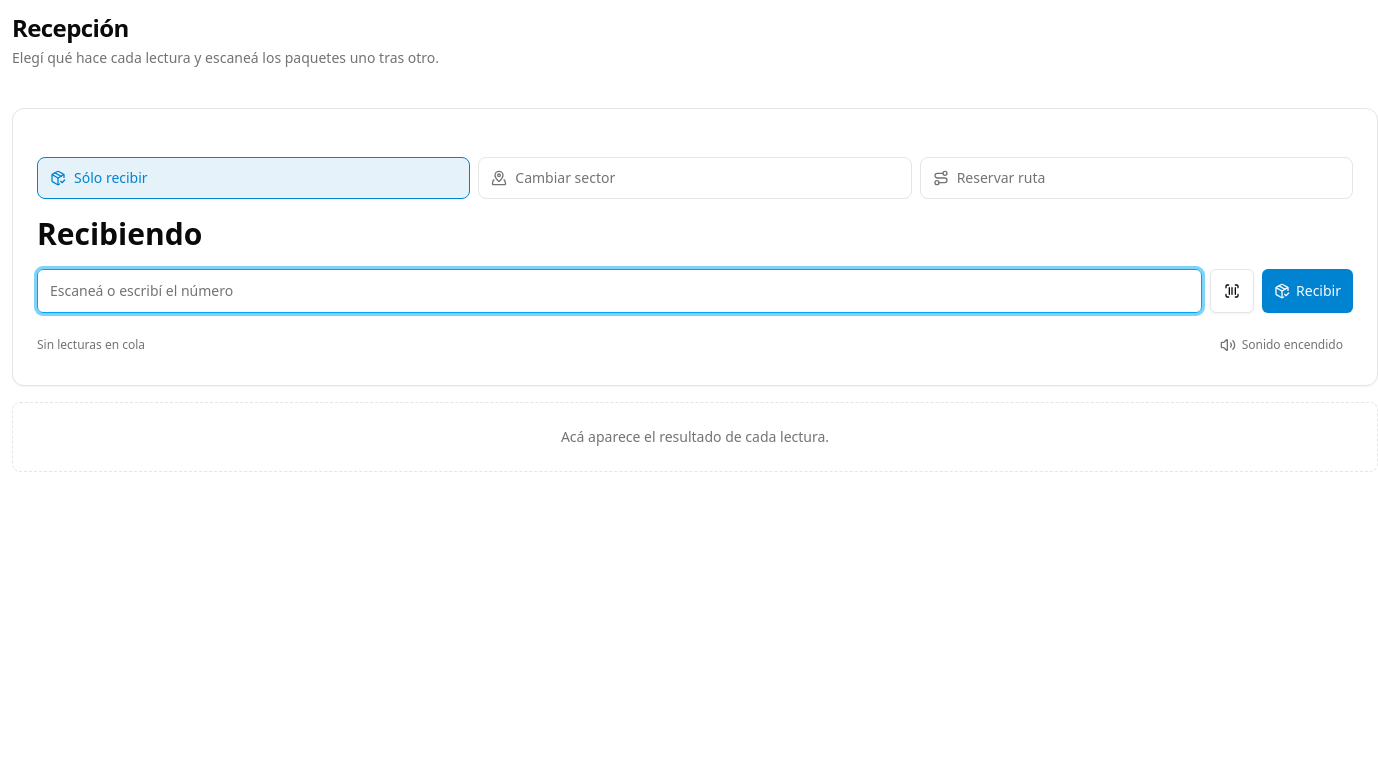
Recepción — los tres modos: una llamada por lectura › Reservar recorrido: manda el recorrido elegido
Click the button "Reservar ruta" at [1001, 178], box [920,157,1353,199]
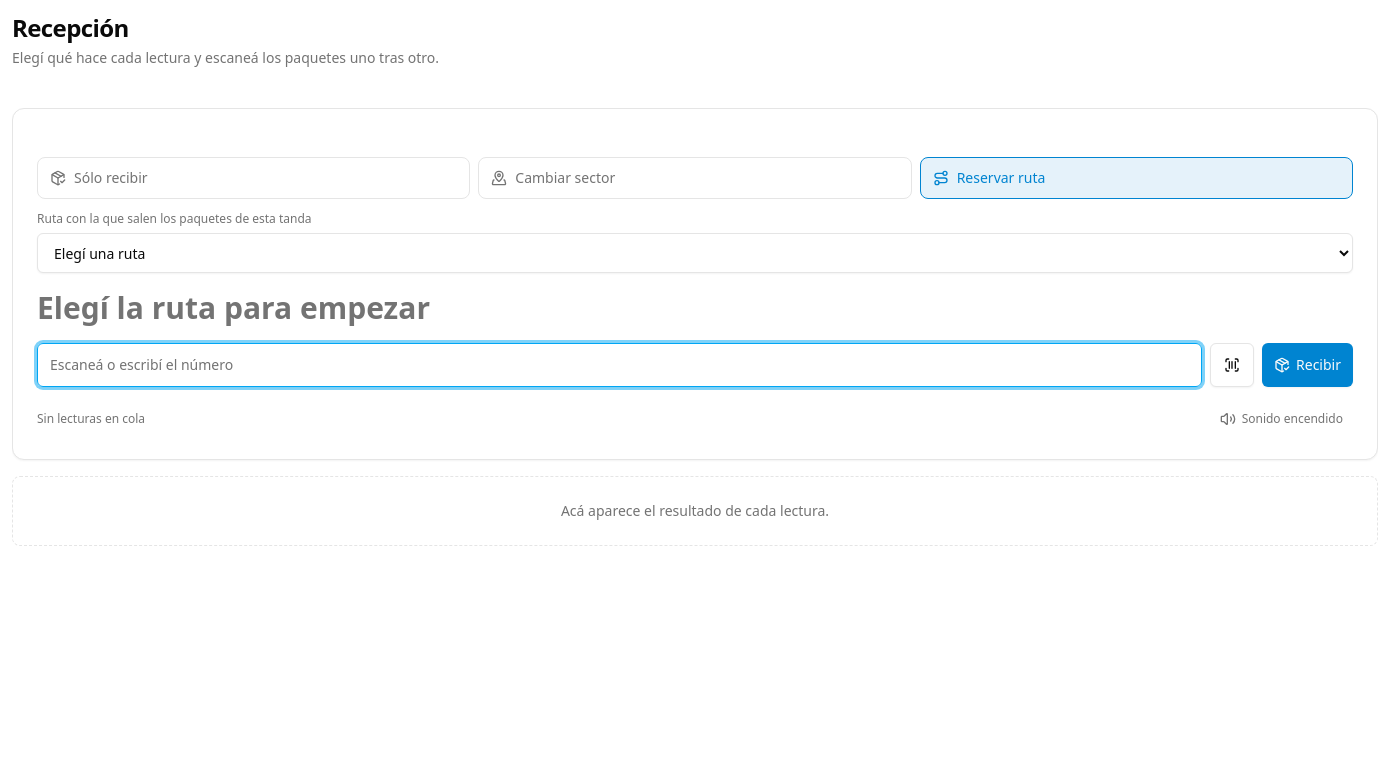
Select "Posadas Moto" in the dropdown labelled "Ruta con la que salen los paquetes de esta tanda" at [695, 253], box [37,233,1353,273]
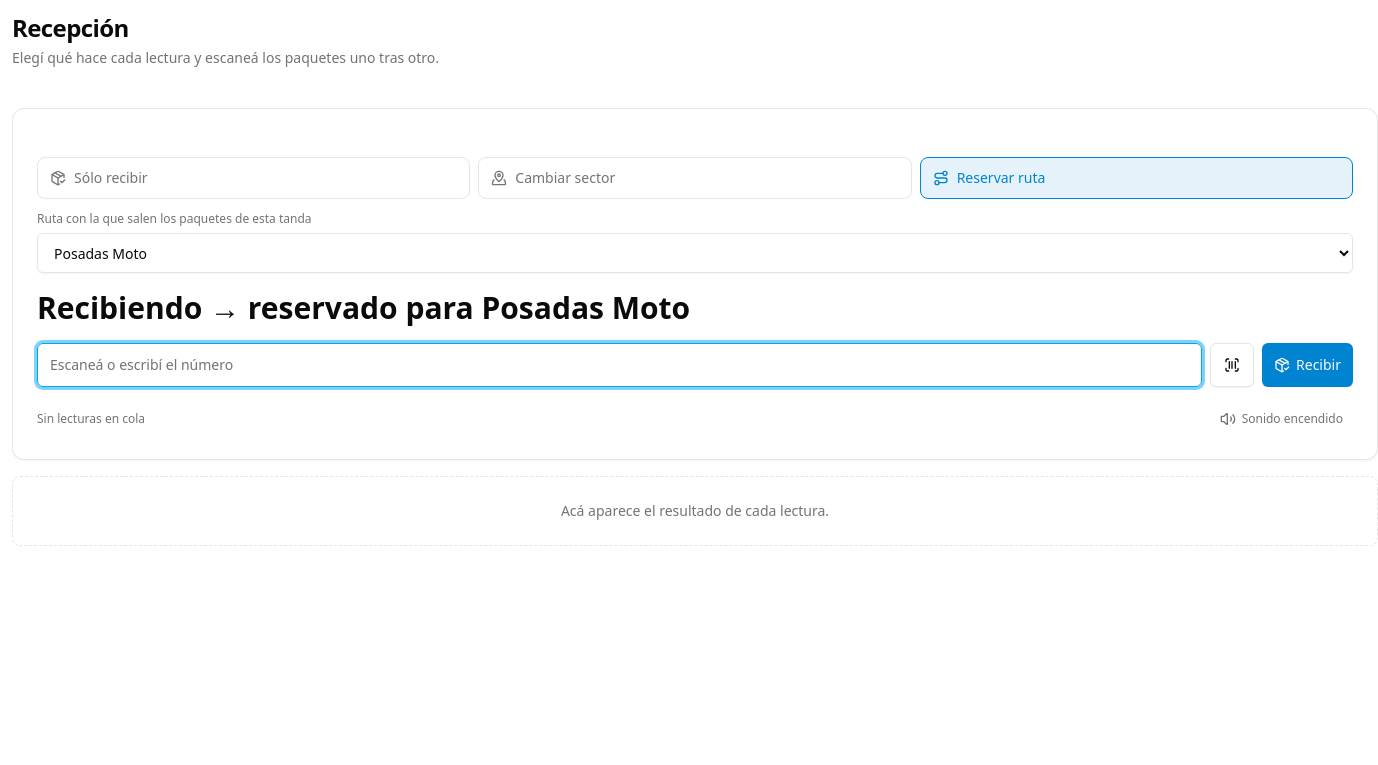
Expected: the text "Recibiendo → reservado para Posadas Moto" is shown, [37,287,690,328]
Type "000000009-3" into the field named "Número, remito o código de barras del envío" at [620, 364], box [37,342,1202,386]
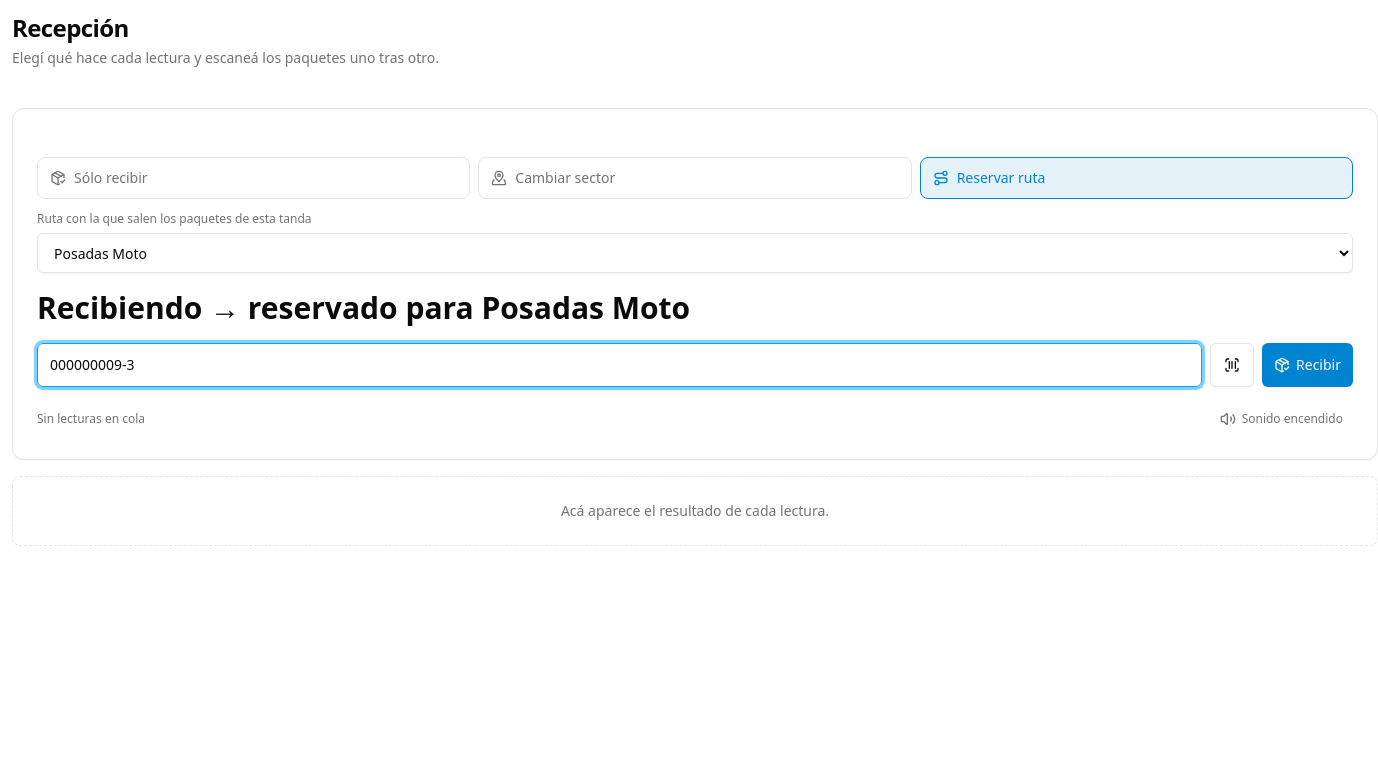
Press Enter in the field named "Número, remito o código de barras del envío", box [37,342,1202,386]
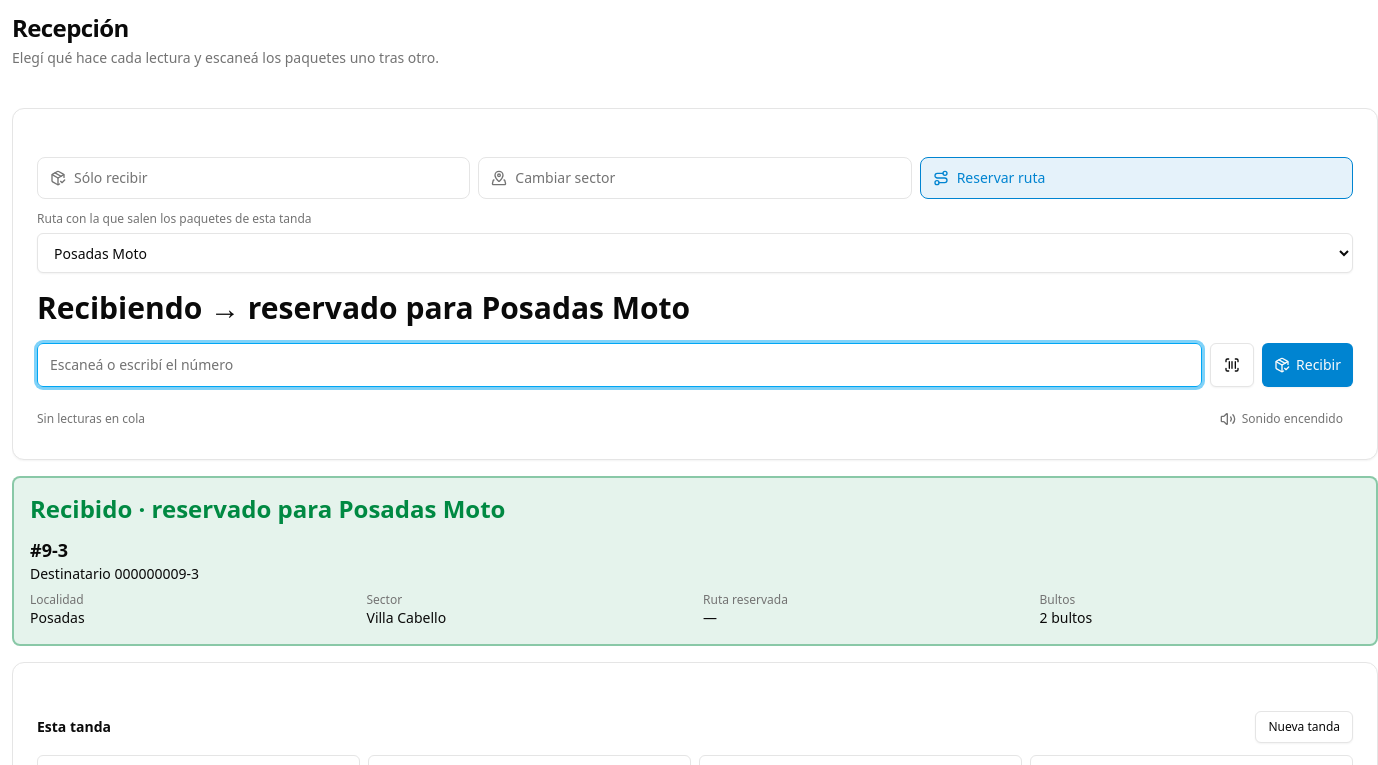
Expected: the message shows "Recibido · reservado para Posadas Moto", [30,492,505,524]
